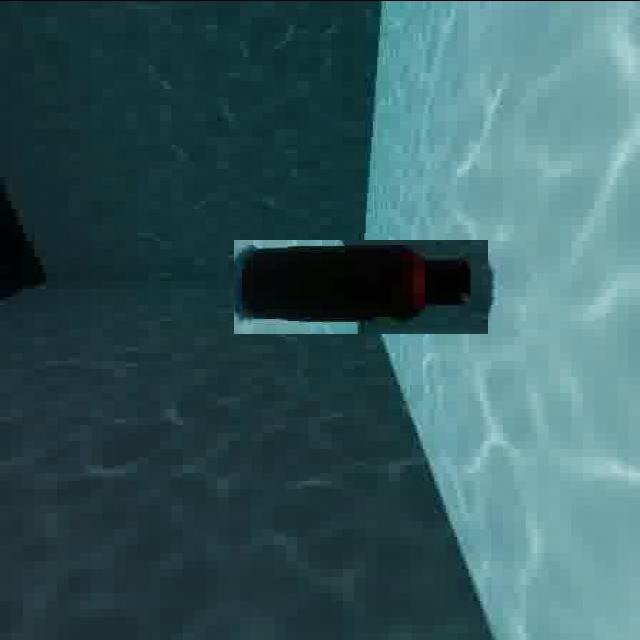Cylinder: (233, 239, 488, 334)
